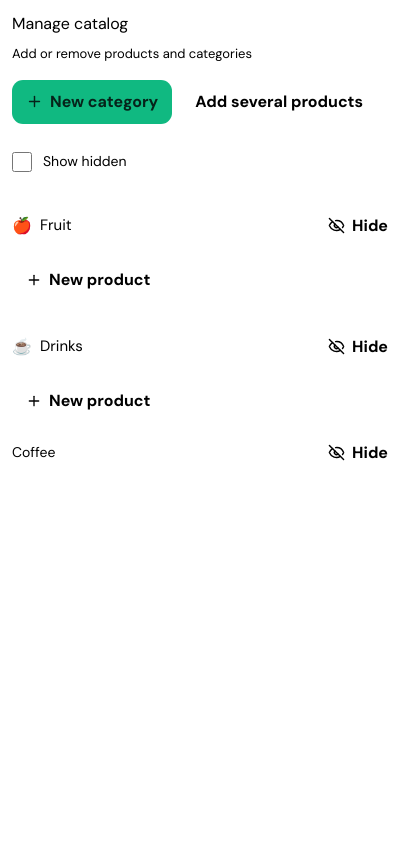
it: shared product flow › hides suggestions explicitly, preserves purchases, and can undo
What coordinates should you click on to do the following:
click the button with aria-label "Hide Coffee"
I would click on:
 (358, 452)
Its box is [314,430,402,474].
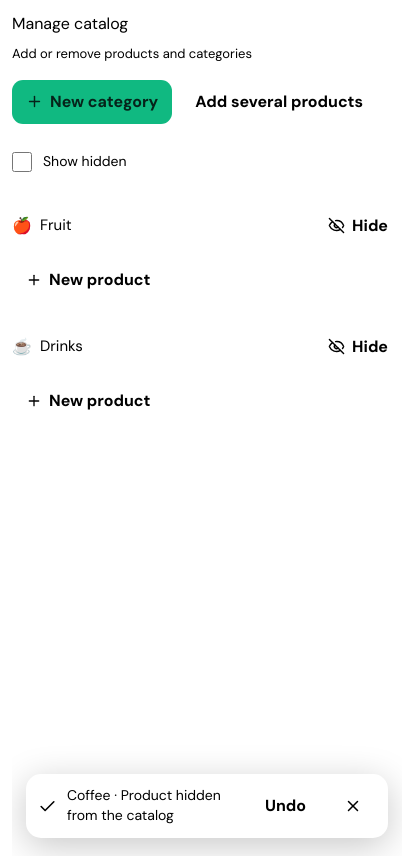
What coordinates should you click on to do the following:
click the button "Undo"
I would click on:
 (285, 806)
Its box is [251,784,320,828].
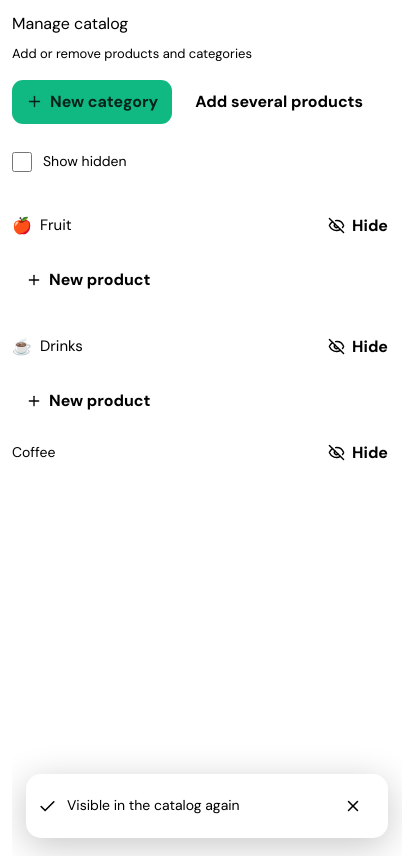
Expected: the button with aria-label "Hide Coffee" is shown, [314,430,402,474]
